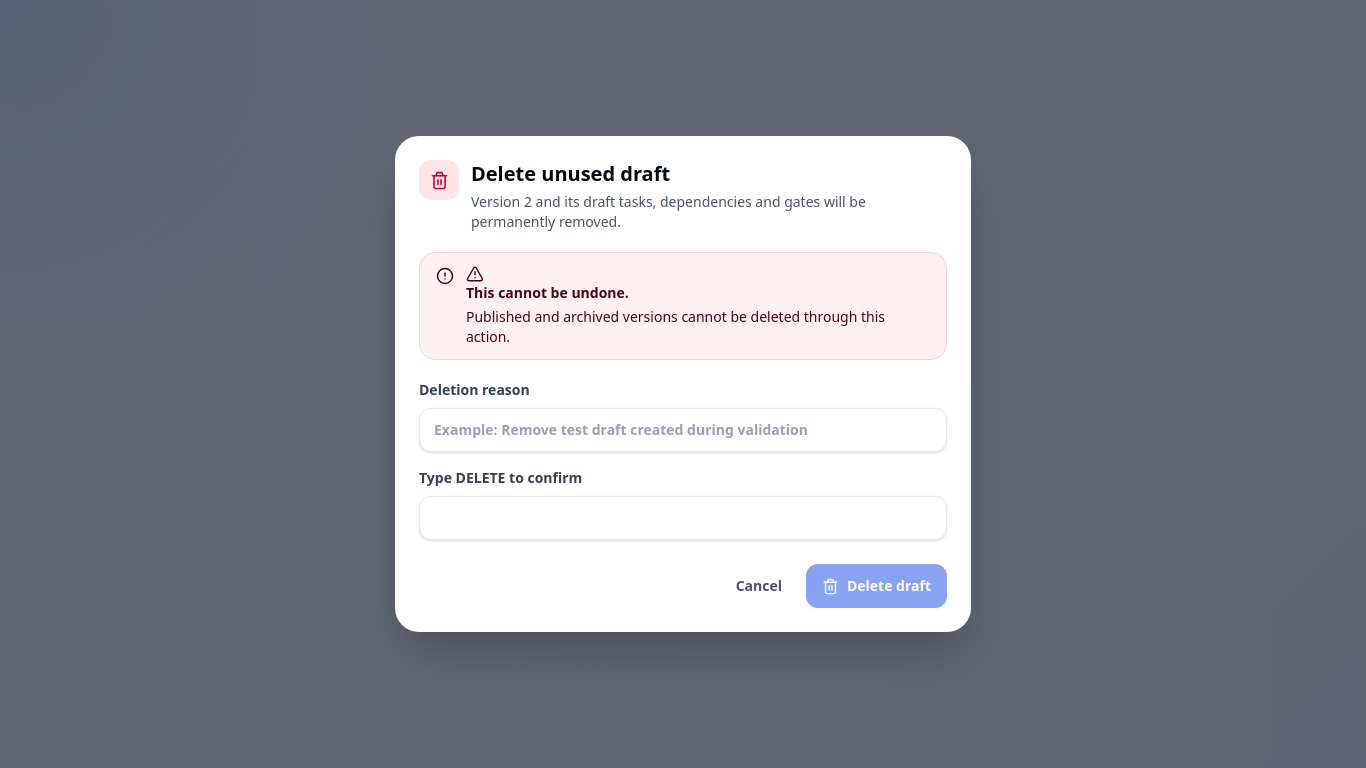
Test: TemplateDeleteDraftModal › renders structured API messages instead of object Object
Type "Remove test draft" into the field named "Draft deletion reason".
click(683, 430); type("Remove test draft")  # box [419,408,947,452]
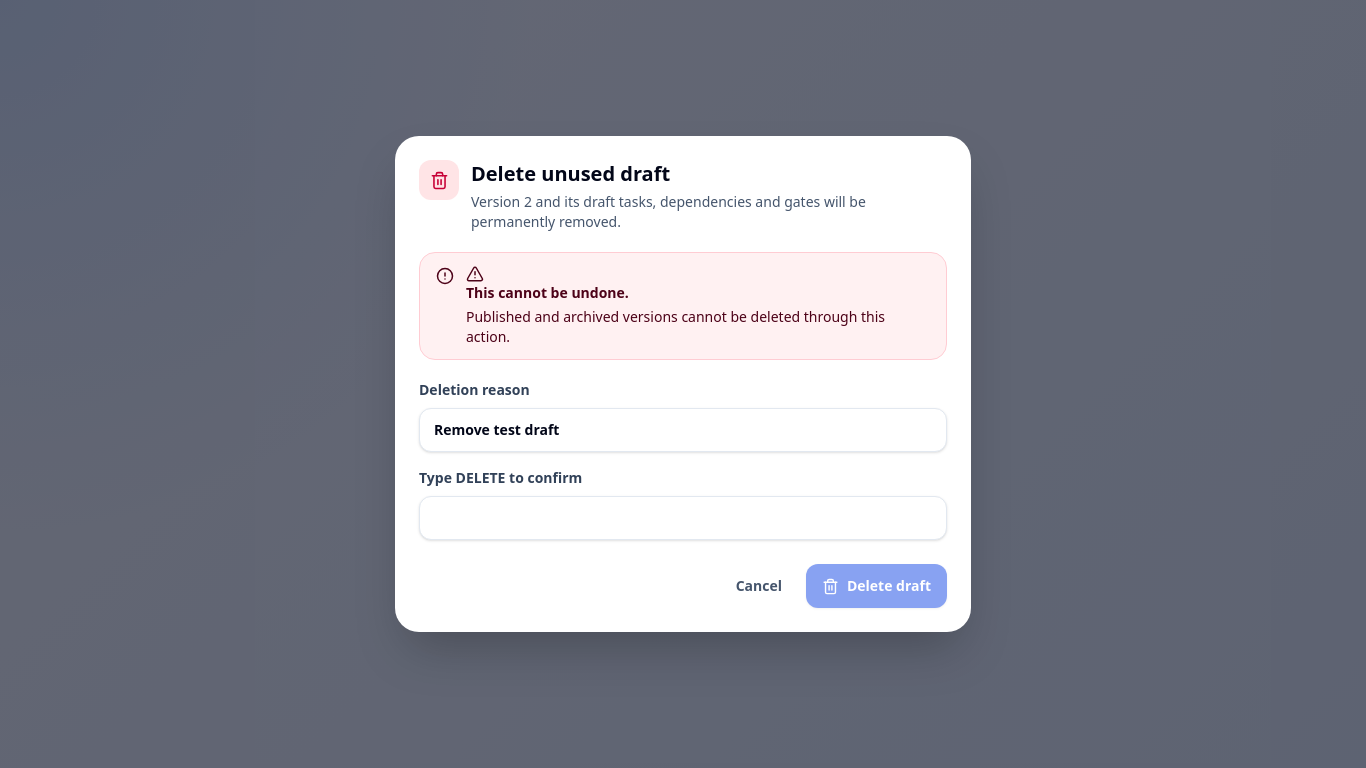
Type "DELETE" into the field labelled "Type DELETE to confirm".
click(683, 518); type("DELETE")  # box [419,496,947,540]
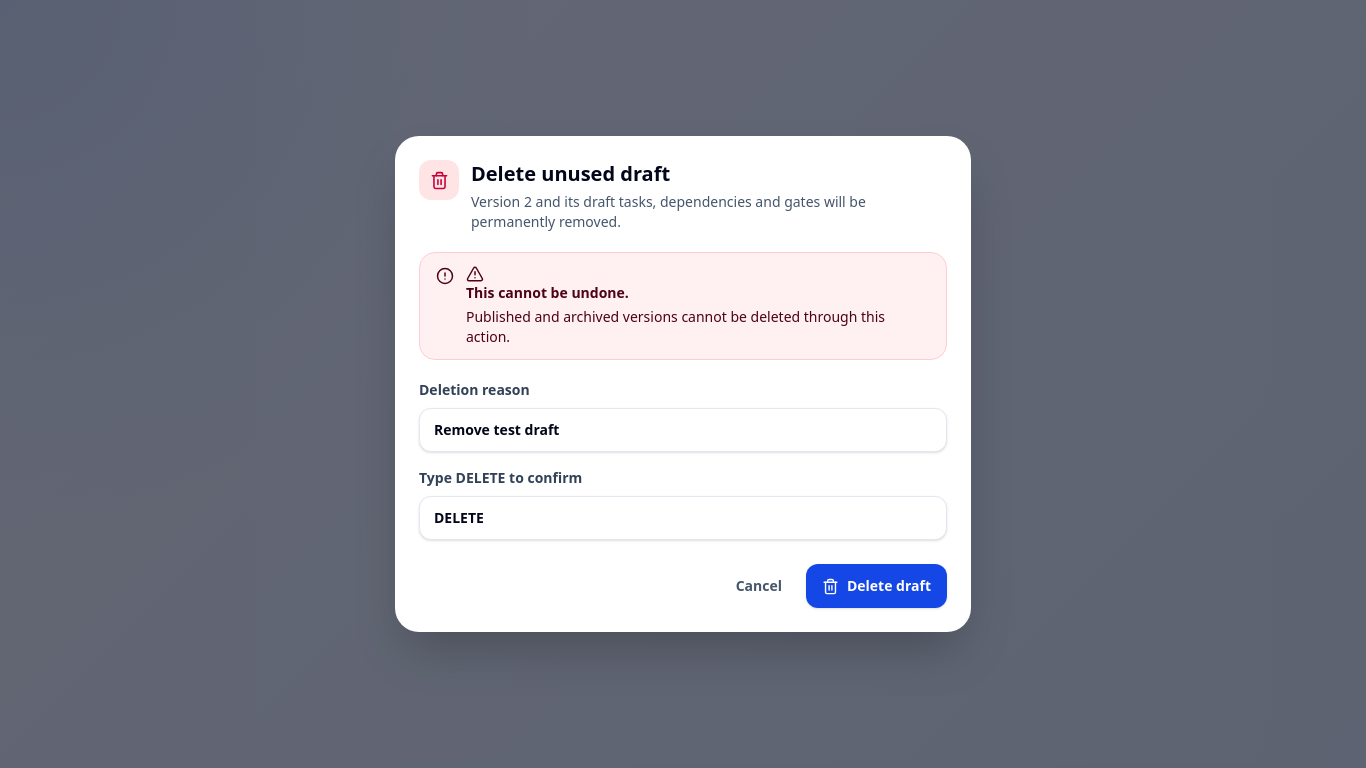
Click the button "Delete draft".
click(876, 586)  # box [806,564,947,608]
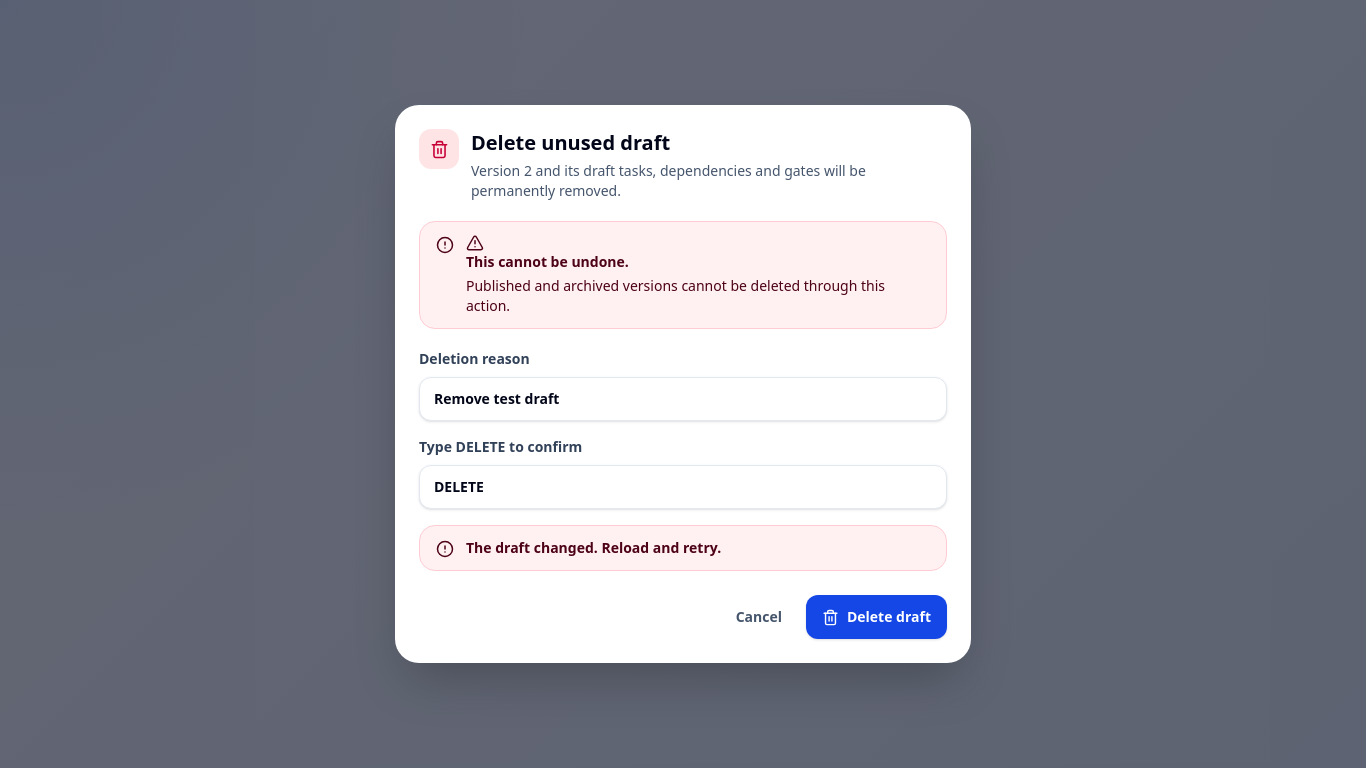
Result: the text "The draft changed. Reload and retry." is shown at [466,538,721,557]
